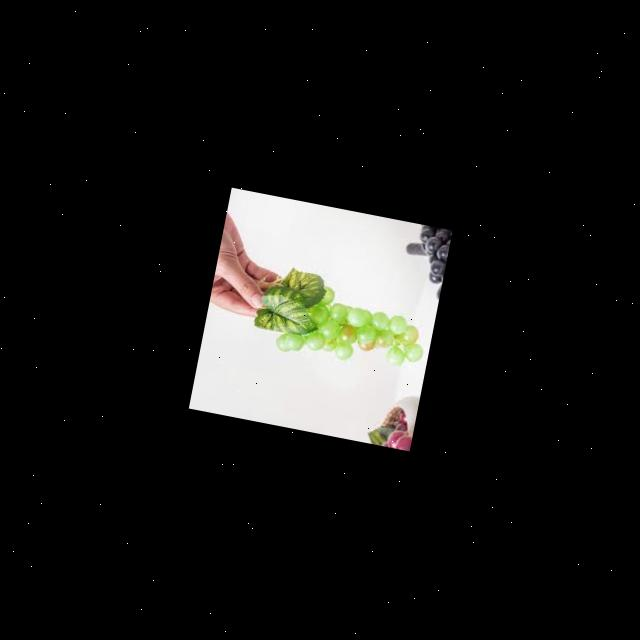grape: (282, 281, 436, 383), (405, 224, 451, 300)
